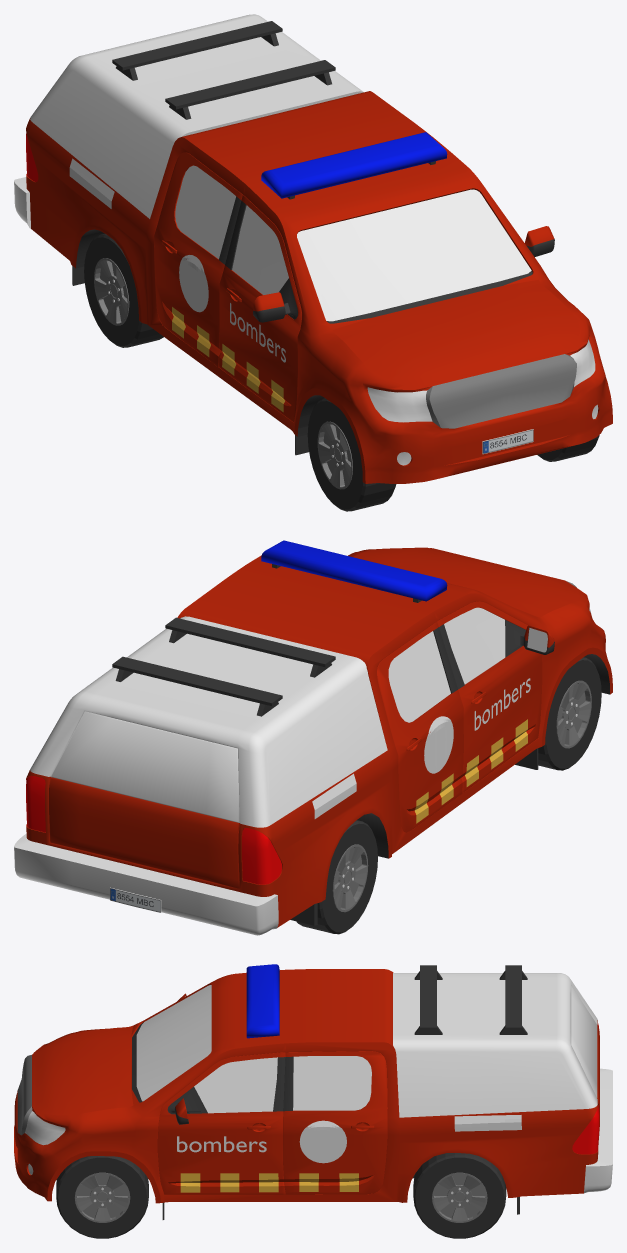
File: pickup.fbx
The picture shows the model from 3 angles, top to bottom: view 1: azimuth 30°, elevation 25°; view 2: azimuth 150°, elevation 25°; view 3: azimuth 270°, elevation 25°; orthographic projection. The views are drawn at different scales.
Parts seen in each view (by area): view 1: CABINA, MALETERO, RUEDAS DEL, LUZES, RUEDAS DET, VACA1, VACA2, generalitat de catalunya.001, matricula delante; view 2: MALETERO, CABINA, RUEDAS DEL, RUEDAS DET, LUZES, VACA1, VACA2, generalitat de catalunya.001, matricula delante.001; view 3: CABINA, MALETERO, RUEDAS DET, RUEDAS DEL, LUZES, VACA1, VACA2, generalitat de catalunya, Text.
Boxes of the visible parts, <box> form: CABINA: <box>146,91,612,483</box>; MALETERO: <box>14,14,363,325</box>; RUEDAS DEL: <box>307,398,599,511</box>; LUZES: <box>261,132,447,199</box>; RUEDAS DET: <box>84,234,163,347</box>; VACA1: <box>165,60,335,119</box>; VACA2: <box>112,21,282,80</box>; generalitat de catalunya.001: <box>69,158,114,208</box>; matricula delante: <box>482,429,533,454</box>; MALETERO: <box>14,616,393,935</box>; CABINA: <box>177,547,612,853</box>; RUEDAS DEL: <box>538,657,601,770</box>; RUEDAS DET: <box>296,820,377,934</box>; LUZES: <box>261,540,447,602</box>; VACA1: <box>165,617,335,677</box>; VACA2: <box>112,656,282,716</box>; generalitat de catalunya.001: <box>312,773,356,818</box>; matricula delante.001: <box>110,887,161,912</box>; CABINA: <box>14,969,399,1219</box>; MALETERO: <box>393,973,612,1214</box>; RUEDAS DET: <box>413,1153,506,1238</box>; RUEDAS DEL: <box>56,1156,148,1238</box>; LUZES: <box>246,964,279,1038</box>; VACA1: <box>414,965,442,1034</box>; VACA2: <box>499,965,527,1034</box>; generalitat de catalunya: <box>454,1115,521,1131</box>; Text: <box>177,1136,266,1152</box>.
Bounding box in the file's own units: 245 × 196 × 535.
